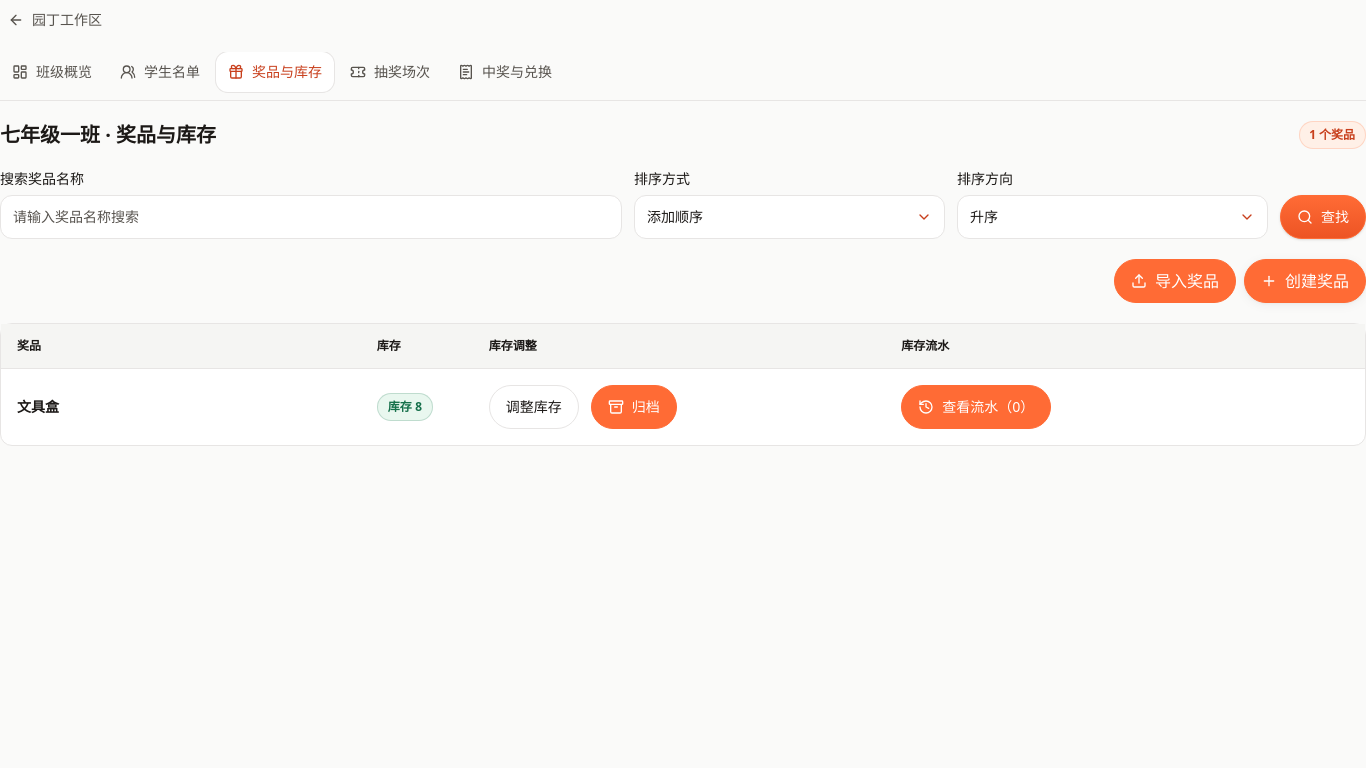
Test: submits the prize stock change and closes the dialog after success
The image size is (1366, 768).
Click the button "调整库存": (534, 406) [489,384,579,428]
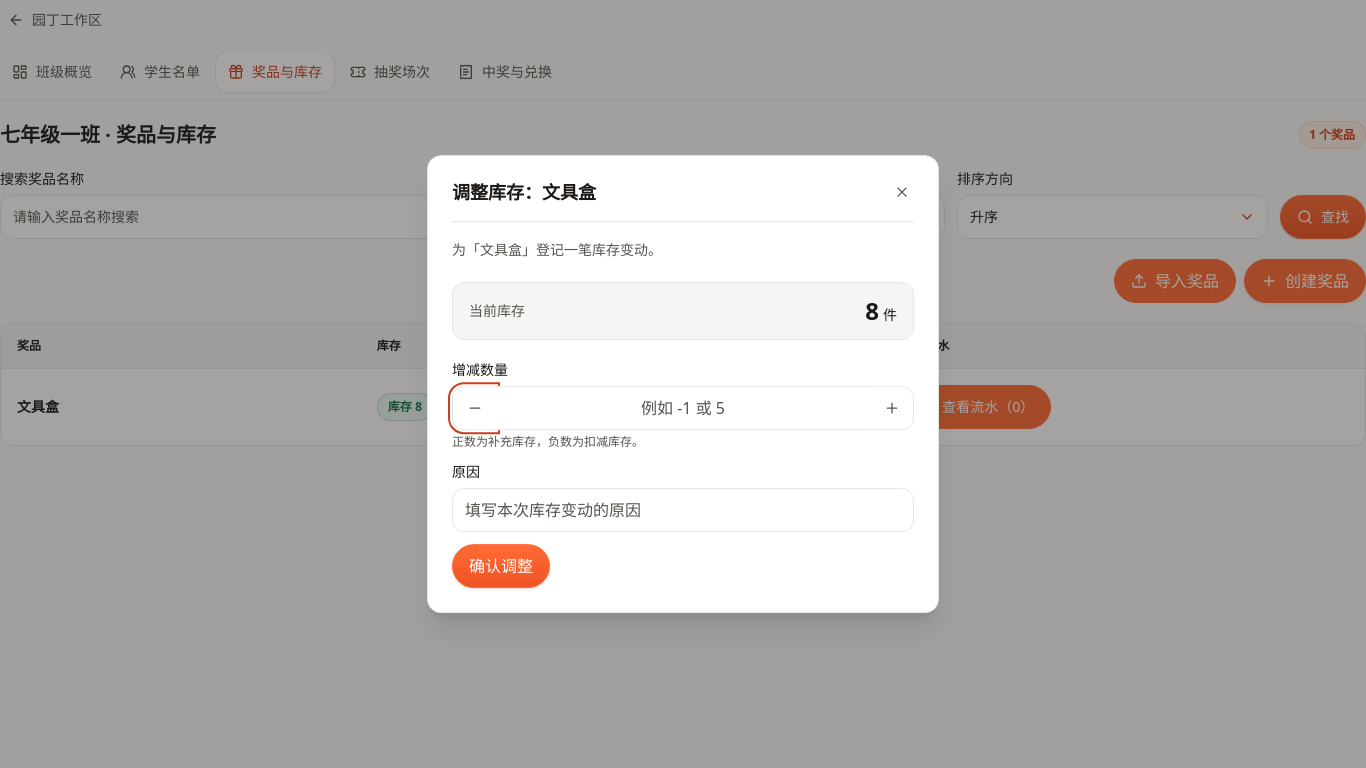
In the field labelled "增减数量": (683, 408) [496,386,870,430], type "-2"
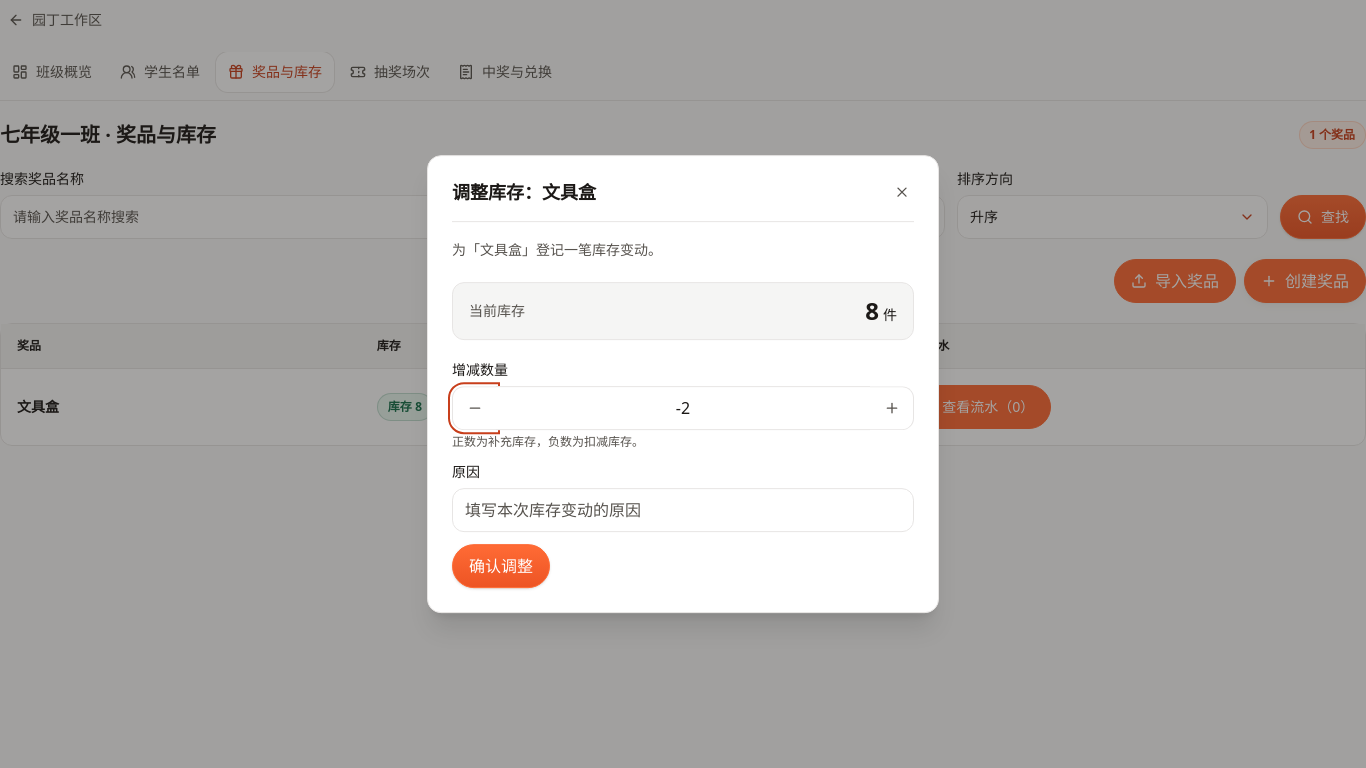
In the field labelled "原因": (683, 510) [452,488,914,532], type "活动发放"
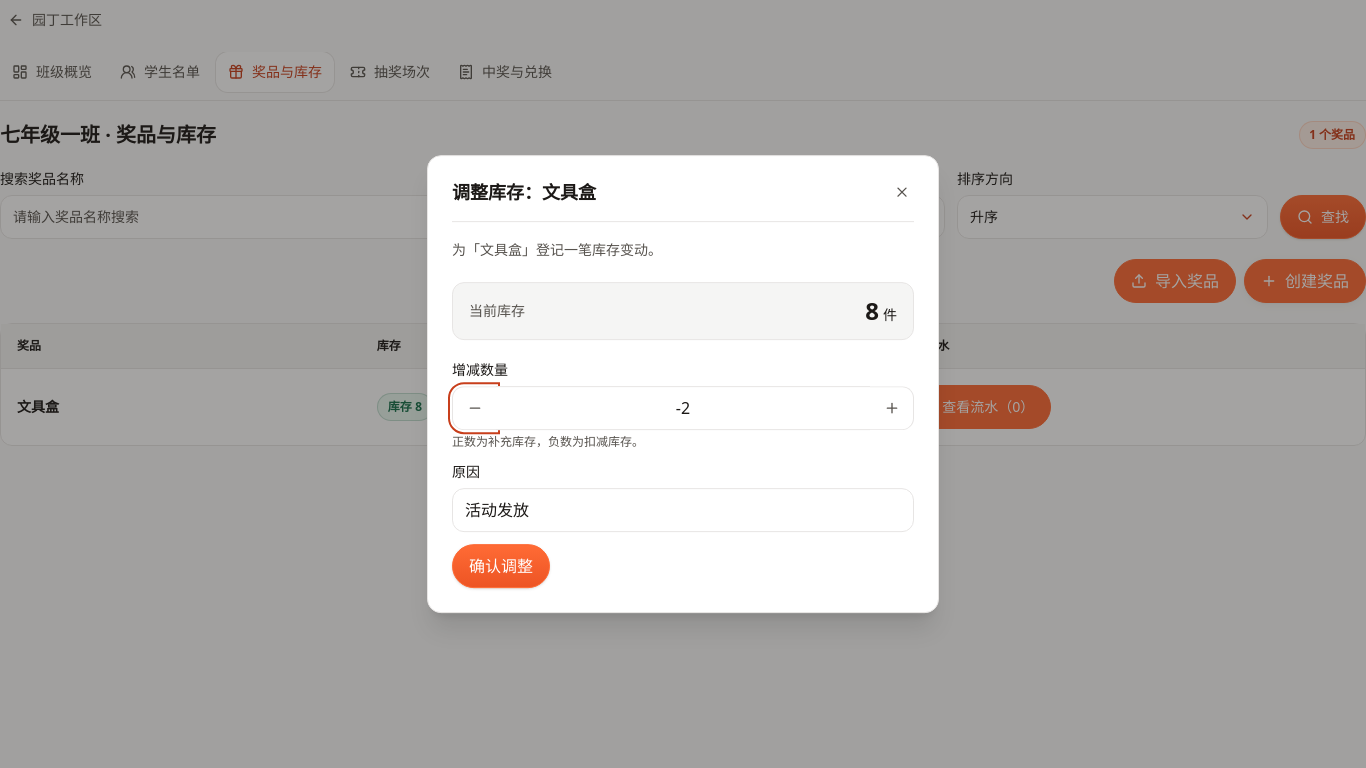
Submit the form "确认调整", box [452,360,914,588]
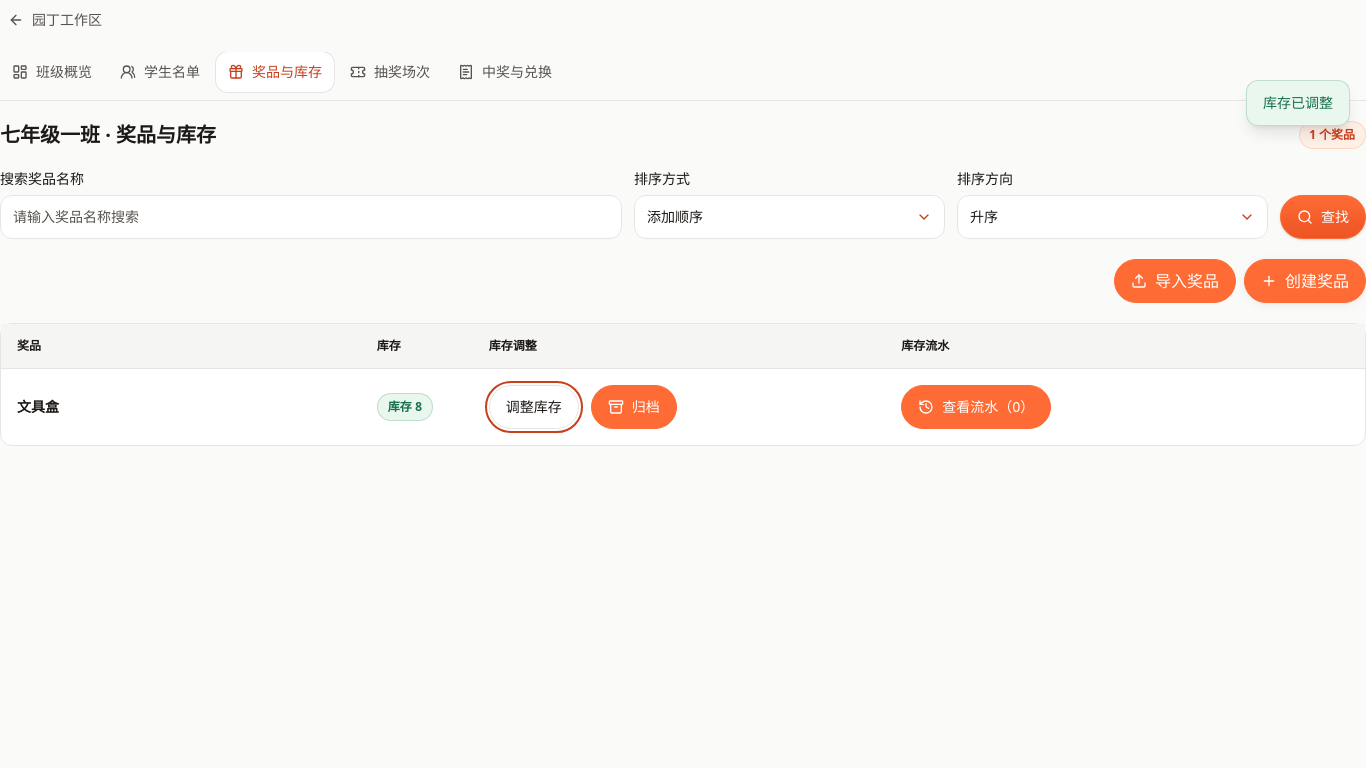
expect the heading "调整库存：文具盒" is gone: met
